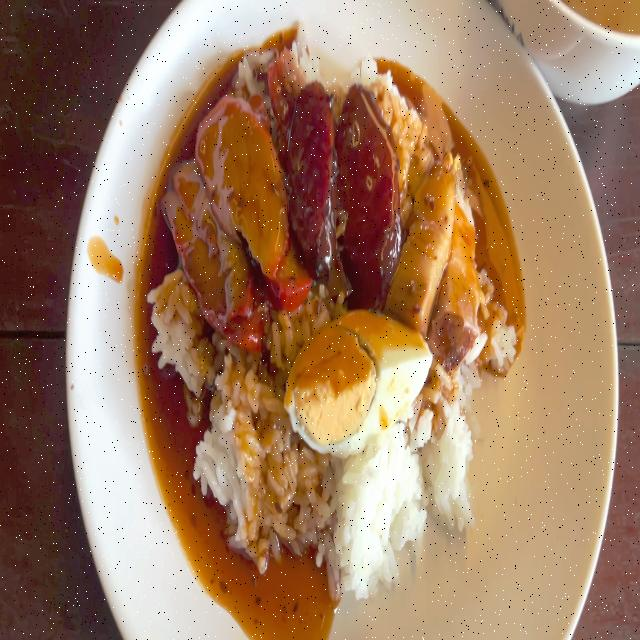boiled_egg: (288, 312, 432, 452)
chainese_sausage: (287, 77, 397, 286), (338, 91, 397, 303), (290, 77, 334, 276)
crispy_pork: (397, 156, 480, 357), (394, 164, 456, 320), (449, 175, 480, 362)
red_pork: (166, 99, 298, 345), (203, 97, 304, 316), (175, 159, 258, 356)
red_pork_and_crispy_pork: (150, 24, 517, 584)
rice: (315, 464, 429, 579), (204, 376, 281, 544), (426, 412, 482, 520), (156, 284, 200, 384), (484, 289, 512, 372), (282, 24, 319, 80), (349, 46, 391, 92)
